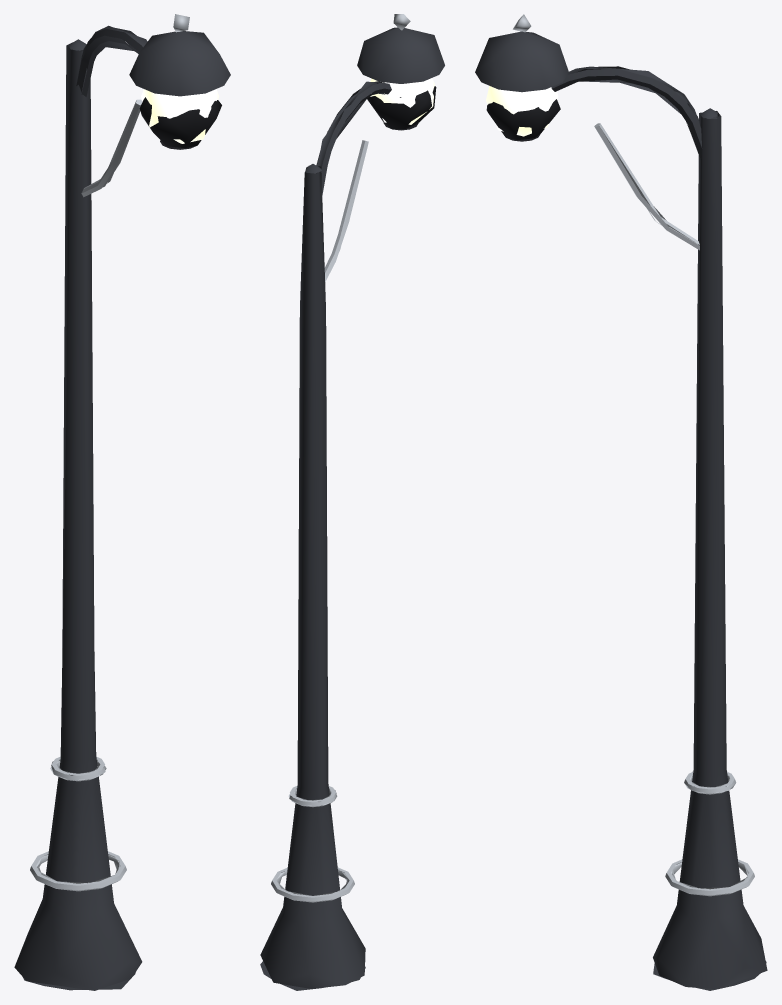
File: lod_street_lamp_tall.glb
3 renders of one model, left to right at view 1: azimuth 30°, elevation 25°; view 2: azimuth 150°, elevation 25°; view 3: azimuth 270°, elevation 25°, orthographic. The views are drawn at different scales.
Parts seen in each view (by area): view 1: street_lamp_tall; view 2: street_lamp_tall; view 3: street_lamp_tall.
Part boxes in pixels (x1,y1,x2,y2): street_lamp_tall: [14, 14, 230, 990]; street_lamp_tall: [260, 14, 444, 990]; street_lamp_tall: [475, 14, 767, 990].
Bounding box in the file's own units: 0.633 × 5.59 × 1.56.
